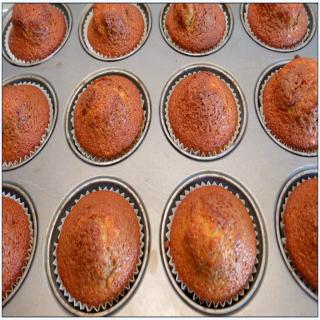Muffin: (51, 183, 144, 312), (167, 183, 260, 307), (162, 69, 243, 157), (70, 76, 148, 165), (259, 59, 320, 155), (278, 174, 320, 296), (0, 78, 55, 167), (3, 1, 69, 64), (159, 1, 230, 59), (0, 194, 35, 302), (84, 2, 146, 59), (242, 0, 311, 50)
